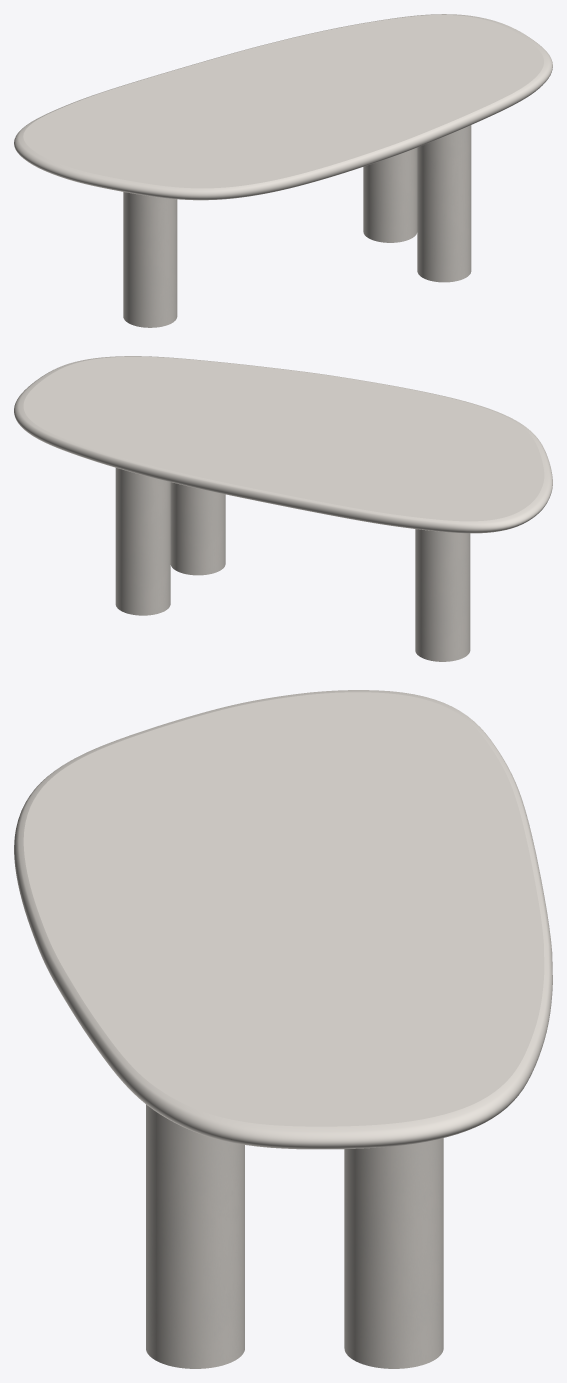
The model's file is pearlwhite_leaf2_round_cylinder.glb.
3 renders of one model, top to bottom at view 1: azimuth 30°, elevation 25°; view 2: azimuth 150°, elevation 25°; view 3: azimuth 270°, elevation 25°, orthographic. The views are drawn at different scales.
Parts seen in each view (by area): view 1: round_leaf2, cylinder; view 2: round_leaf2, cylinder; view 3: round_leaf2, cylinder.
Part boxes in pixels (x1,y1,x2,y2): round_leaf2: [14, 14, 552, 200]; cylinder: [123, 125, 471, 327]; round_leaf2: [14, 356, 552, 533]; cylinder: [115, 468, 470, 661]; round_leaf2: [14, 690, 552, 1149]; cylinder: [146, 1104, 443, 1368].
Size of the model in its own units: 7.5 by 2.54 by 3.8.
1 material, 1 textured.
